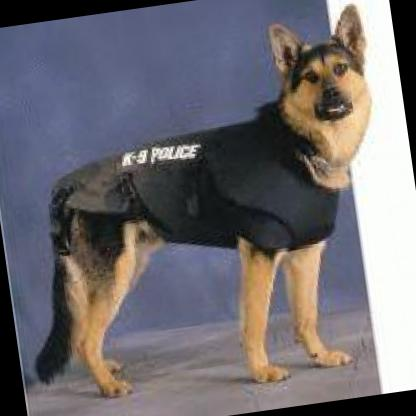German_shepherd: (0, 0, 406, 416)
